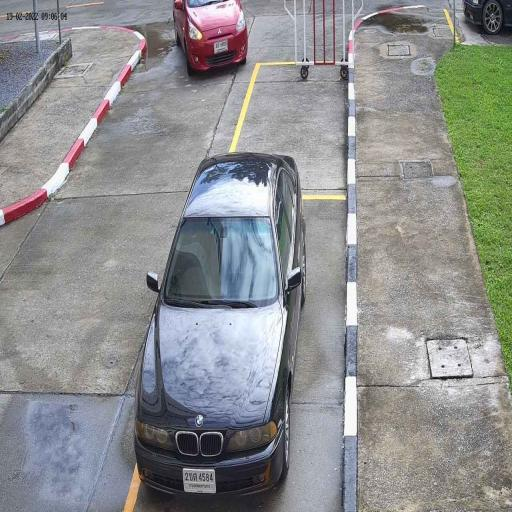car: (132, 150, 308, 504), (171, 0, 249, 80)
